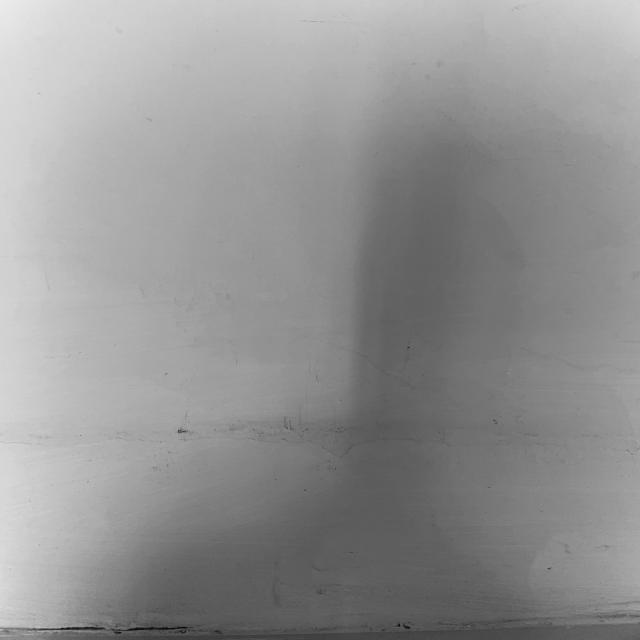rough and patchy surface: (0, 64, 640, 630)
